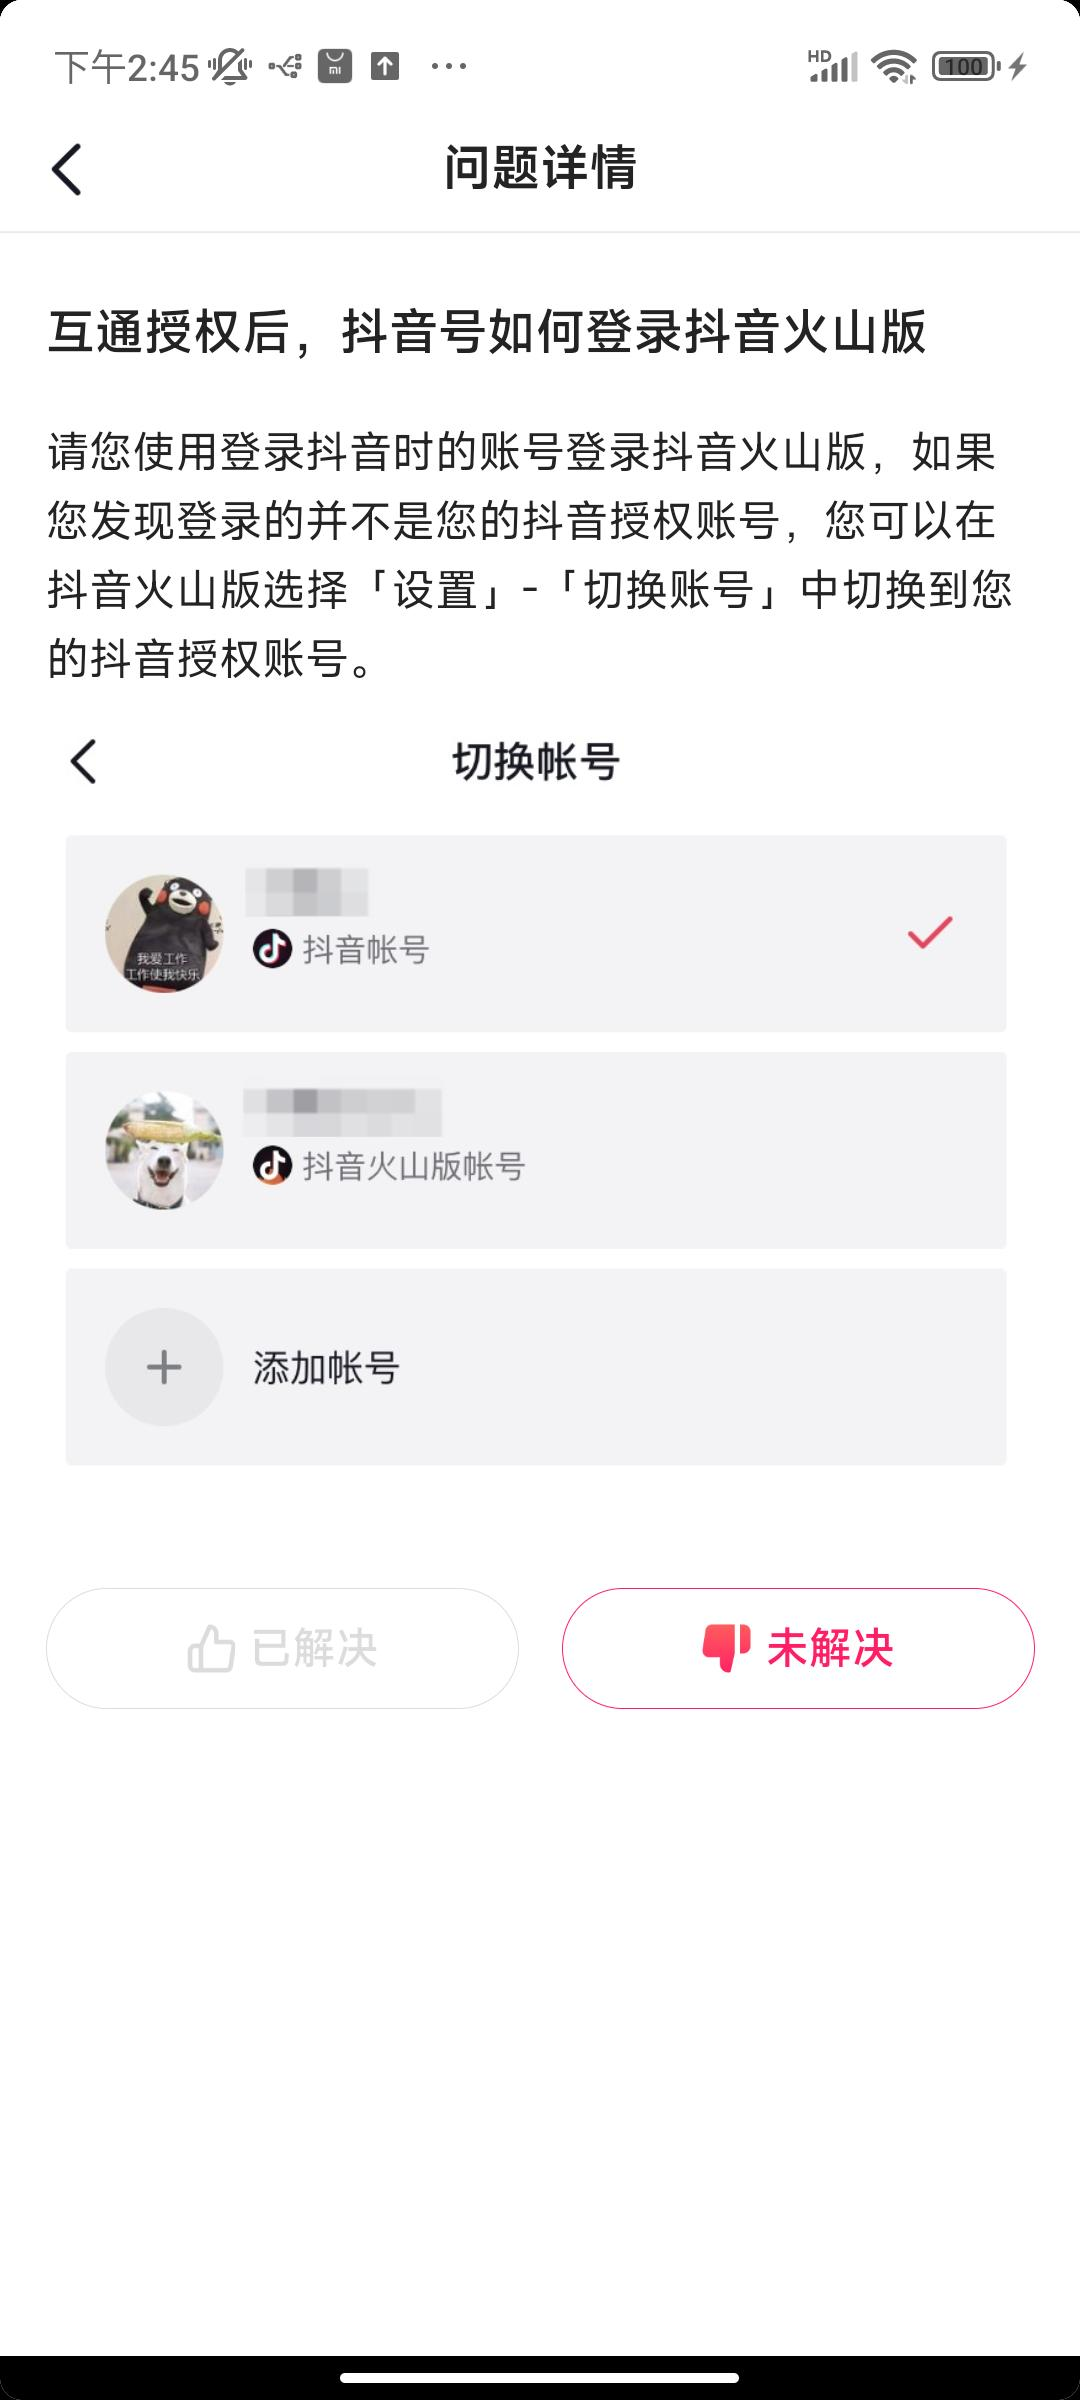ui_group: (546, 1583, 1042, 1716)
